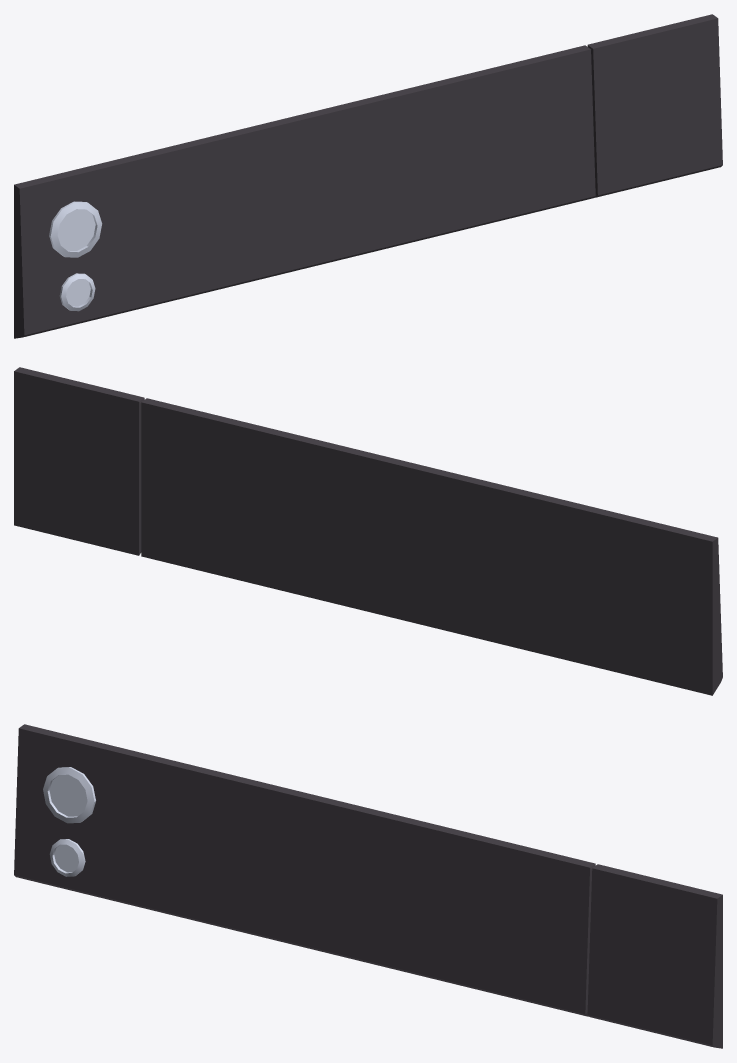
File: SM_border_plate.fbx
The picture shows the model from 3 angles, top to bottom: view 1: azimuth 30°, elevation 25°; view 2: azimuth 150°, elevation 25°; view 3: azimuth 330°, elevation 25°; orthographic projection.
Parts seen in each view (by area): view 1: border_plate; view 2: border_plate; view 3: border_plate.
Part boxes in pixels (x1,y1,x2,y2): border_plate: (14,14,722,338); border_plate: (14,367,722,695); border_plate: (14,724,722,1048).
Size of the model in its own units: 144 by 30.42 by 4.53.
